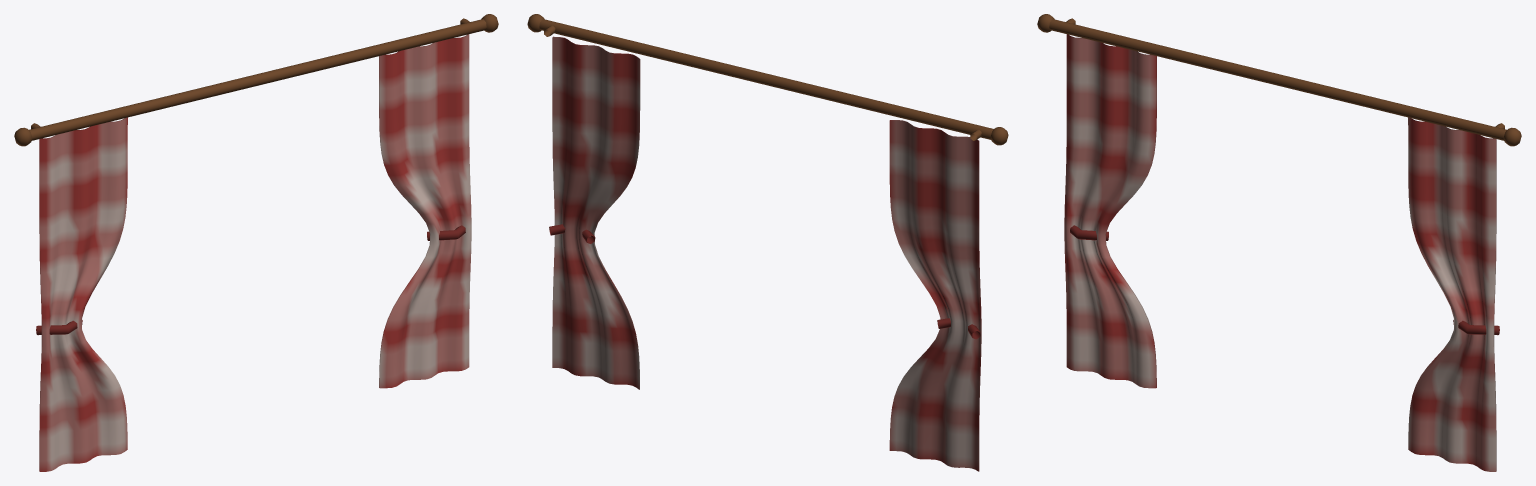
The model's file is Hut_Curtains.fbx.
3 views of the same model, side by side, from view 1: azimuth 30°, elevation 25°; view 2: azimuth 150°, elevation 25°; view 3: azimuth 330°, elevation 25° (orthographic).
Parts seen in each view (by area): view 1: Hut_Curtains; view 2: Hut_Curtains; view 3: Hut_Curtains.
Boxes of the visible parts, box(x1,y1,x2,y2) form: Hut_Curtains: box(14, 14, 498, 471); Hut_Curtains: box(527, 14, 1008, 471); Hut_Curtains: box(1037, 14, 1521, 471).
Size of the model in its own units: 65.2 by 45.1 by 3.53.
